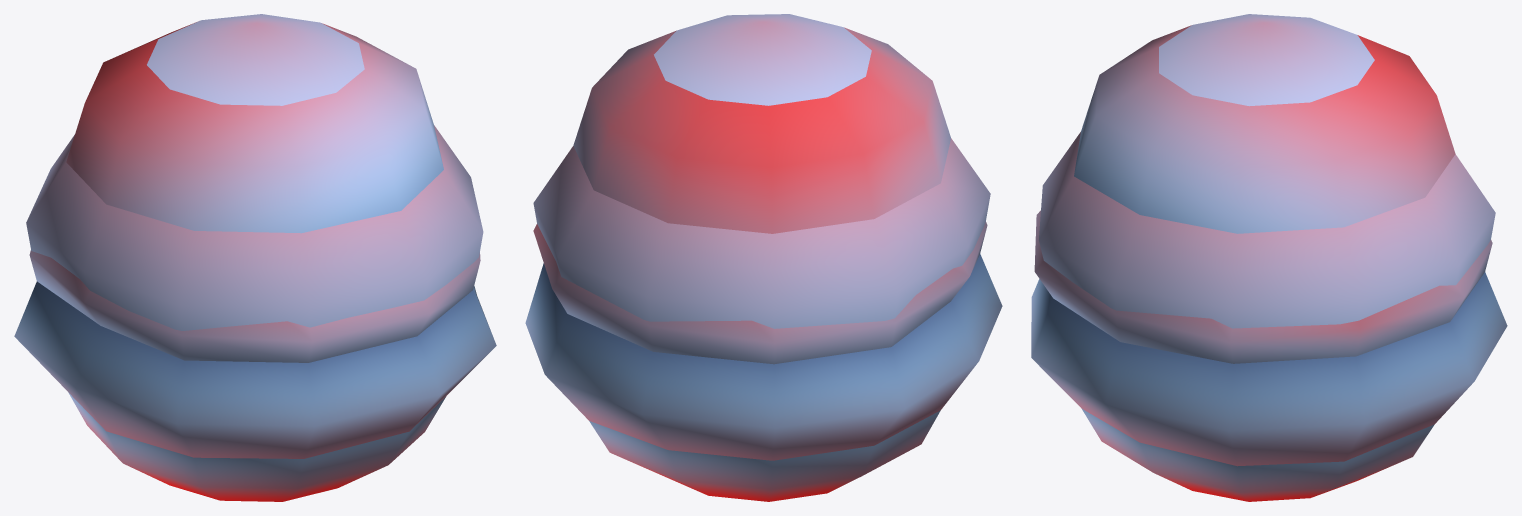
Rendered from Egg_Red.fbx.
3 renders of one model, left to right at view 1: azimuth 30°, elevation 25°; view 2: azimuth 150°, elevation 25°; view 3: azimuth 270°, elevation 25°, orthographic.
Visible parts, largest first — view 1: Egg_Red, Egg_Damaged_Red; view 2: Egg_Red, Egg_Damaged_Red; view 3: Egg_Red, Egg_Damaged_Red.
Part boxes in pixels (box(x1,y1,x2,y2)): Egg_Red: box(26, 14, 483, 330); Egg_Damaged_Red: box(14, 250, 496, 501); Egg_Red: box(533, 14, 990, 328); Egg_Damaged_Red: box(525, 221, 1002, 501); Egg_Red: box(1039, 14, 1495, 328); Egg_Damaged_Red: box(1031, 210, 1507, 501).
Size of the model in its own units: 2.1 by 2.3 by 2.16.
